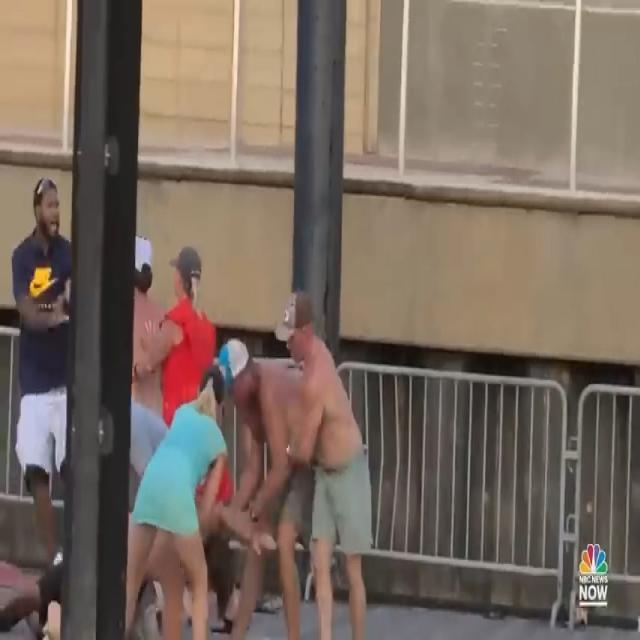fight: (10, 173, 375, 640)
